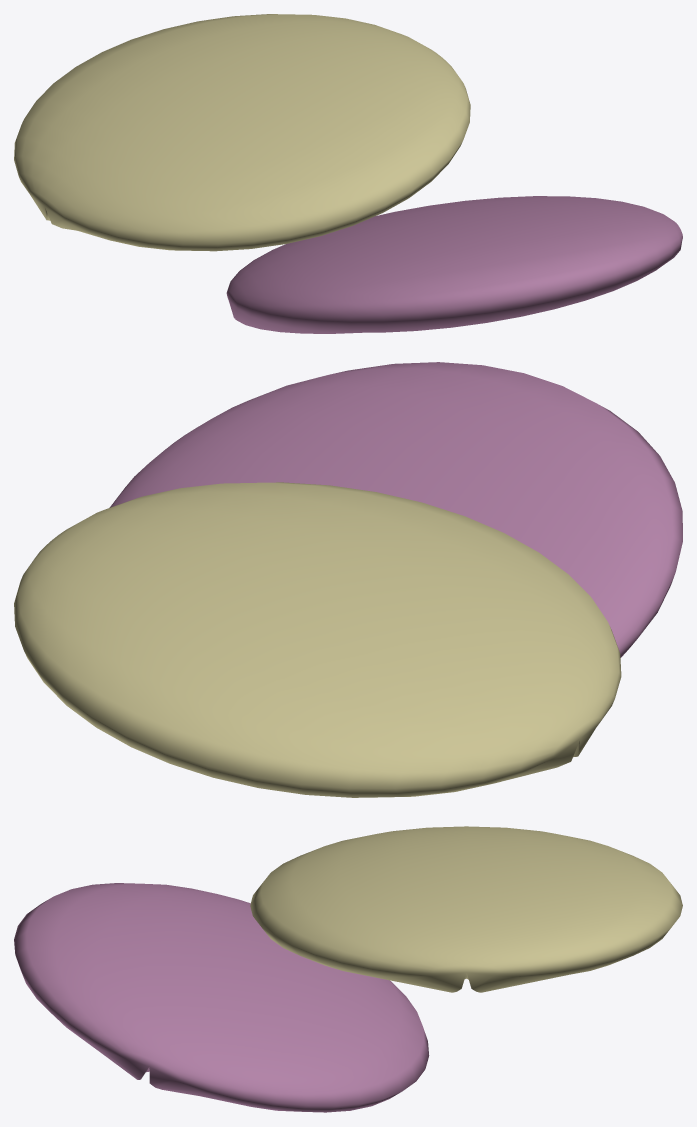
Rendered from extasy.fbx.
3 renders of one model, top to bottom at view 1: azimuth 30°, elevation 25°; view 2: azimuth 150°, elevation 25°; view 3: azimuth 270°, elevation 25°, orthographic. The views are drawn at different scales.
Parts seen in each view (by area): view 1: pSphere2, pSphere3; view 2: pSphere2, pSphere3; view 3: pSphere3, pSphere2.
Boxes of the visible parts, x1,y1,x2,y2 form: pSphere2: (14, 14, 470, 251); pSphere3: (226, 196, 682, 333); pSphere2: (14, 482, 621, 797); pSphere3: (109, 362, 682, 657); pSphere3: (14, 883, 429, 1112); pSphere2: (250, 826, 682, 992).
Bounding box in the file's own units: 5.1 × 1.82 × 6.55.
